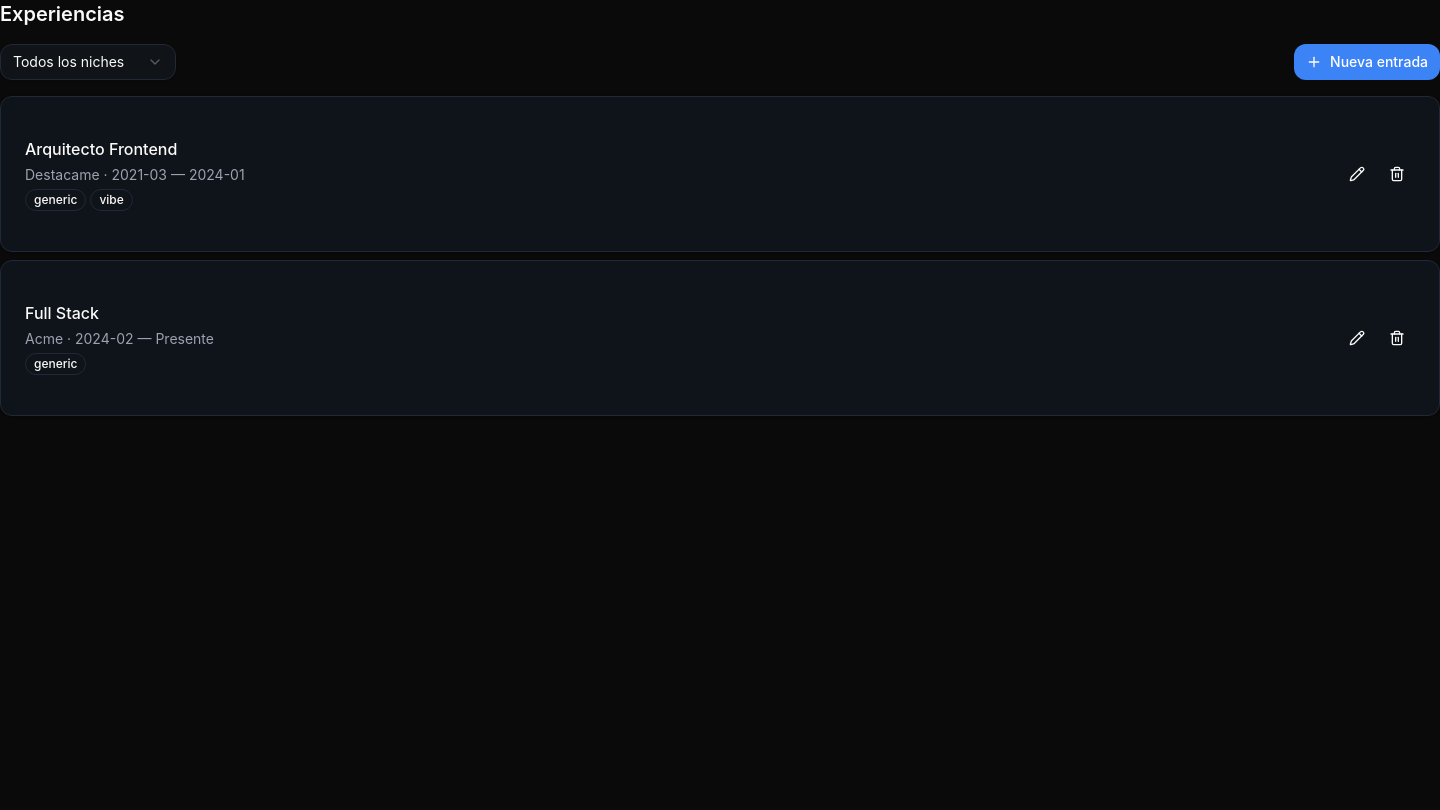
Test: CvEntitySection › Given el dialog abierto When se presiona Escape Then cierra sin request
Expected: the number of elements with test id "cv-entity-card" is 2, top-left (0, 96), bottom-right (1439, 252); top-left (0, 260), bottom-right (1439, 416)
Click the button with test id "cv-entity-new" at (1367, 62), box top-left (1294, 44), bottom-right (1439, 80)
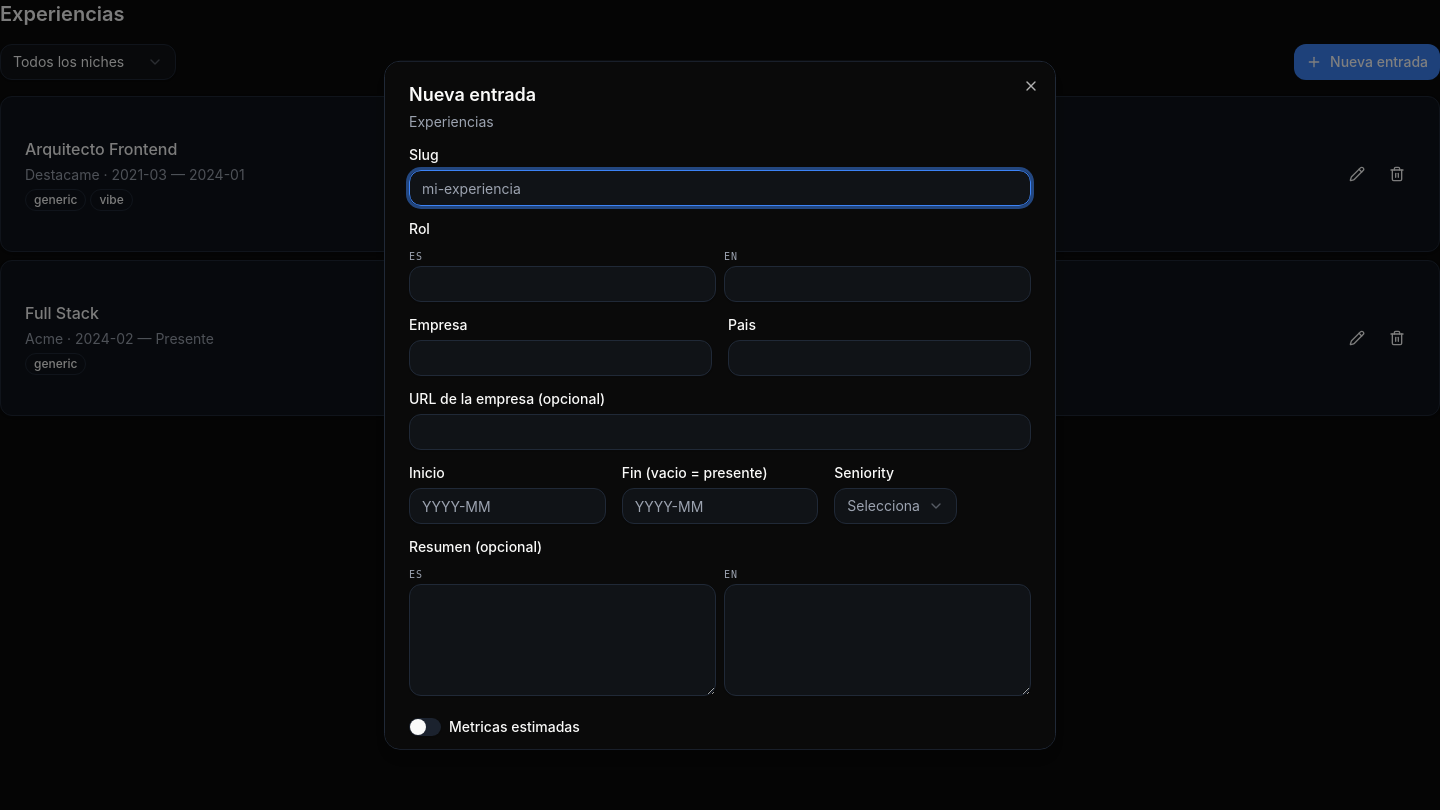
Press Escape
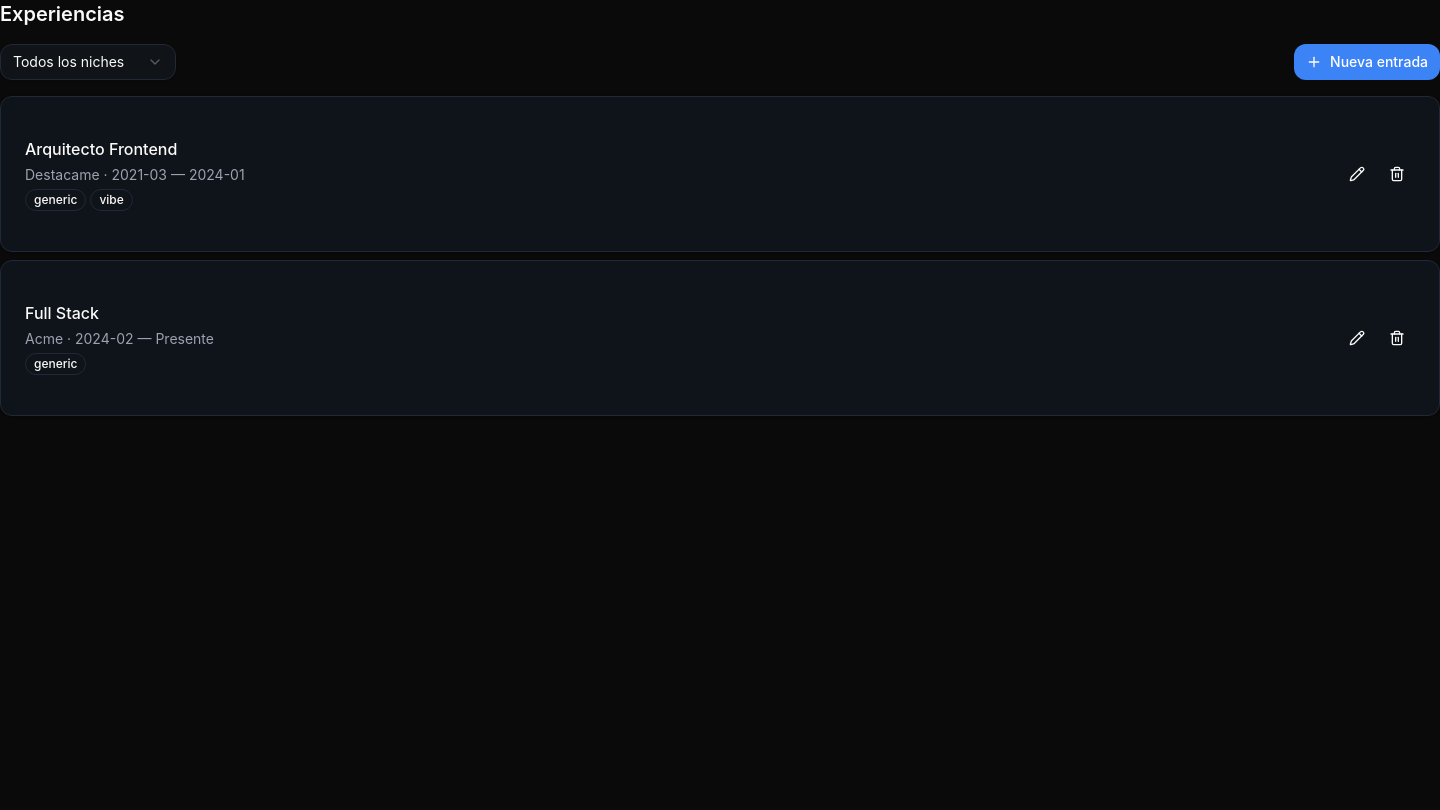
Expected: the dialog with test id "cv-entity-form-dialog" is gone
